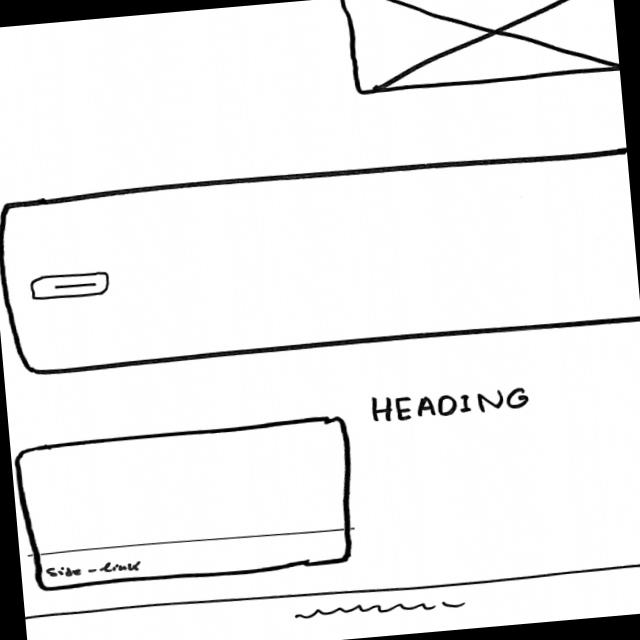container: (0, 144, 640, 379), (9, 412, 360, 594)
icon-button: (27, 266, 111, 302)
image: (331, 0, 620, 98)
label: (366, 380, 532, 424), (44, 556, 145, 582)
text: (292, 594, 468, 625)
